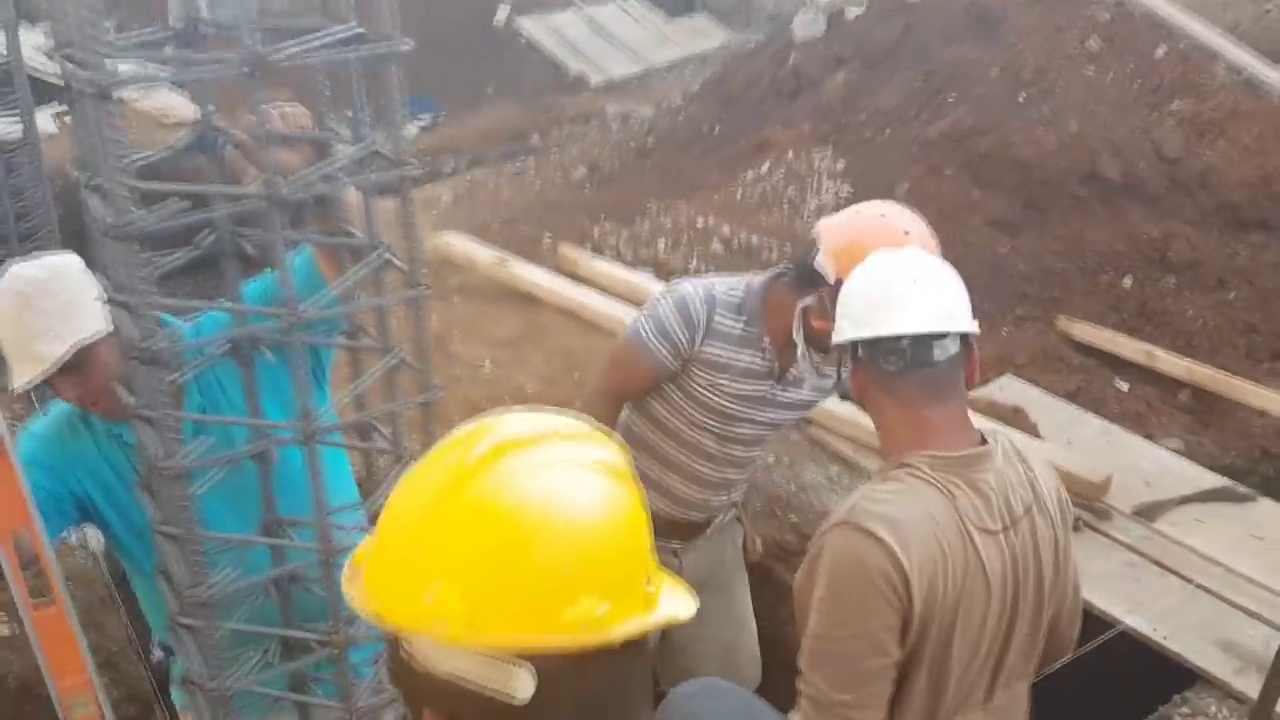helmet: (339, 404, 703, 700), (834, 251, 978, 350), (813, 200, 946, 269)
helmet-off: (0, 262, 138, 421)
helmet-on: (339, 395, 766, 718), (836, 248, 991, 483), (747, 200, 947, 368)
person: (0, 105, 368, 720), (565, 198, 947, 675), (792, 239, 1077, 720)
